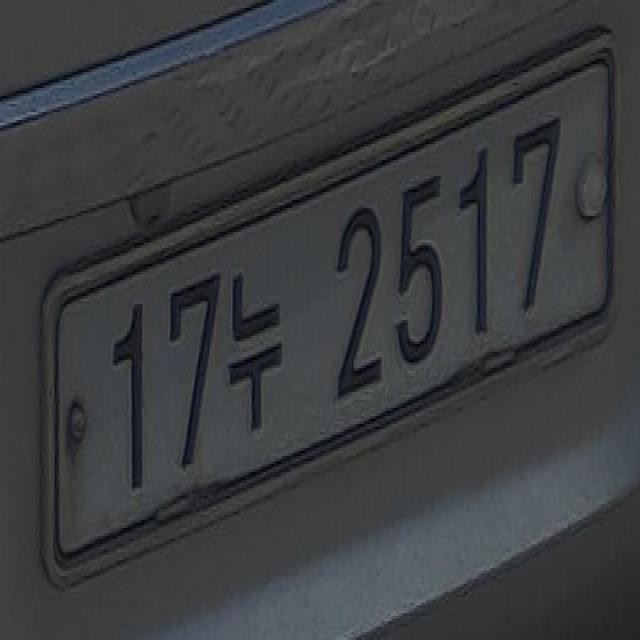1: (108, 274, 156, 506), (453, 131, 501, 352)
2: (332, 190, 390, 406)
5: (390, 157, 450, 376)
7: (161, 256, 226, 485), (506, 101, 568, 328)
license_plate: (31, 16, 629, 597)
nu: (226, 232, 287, 451)
